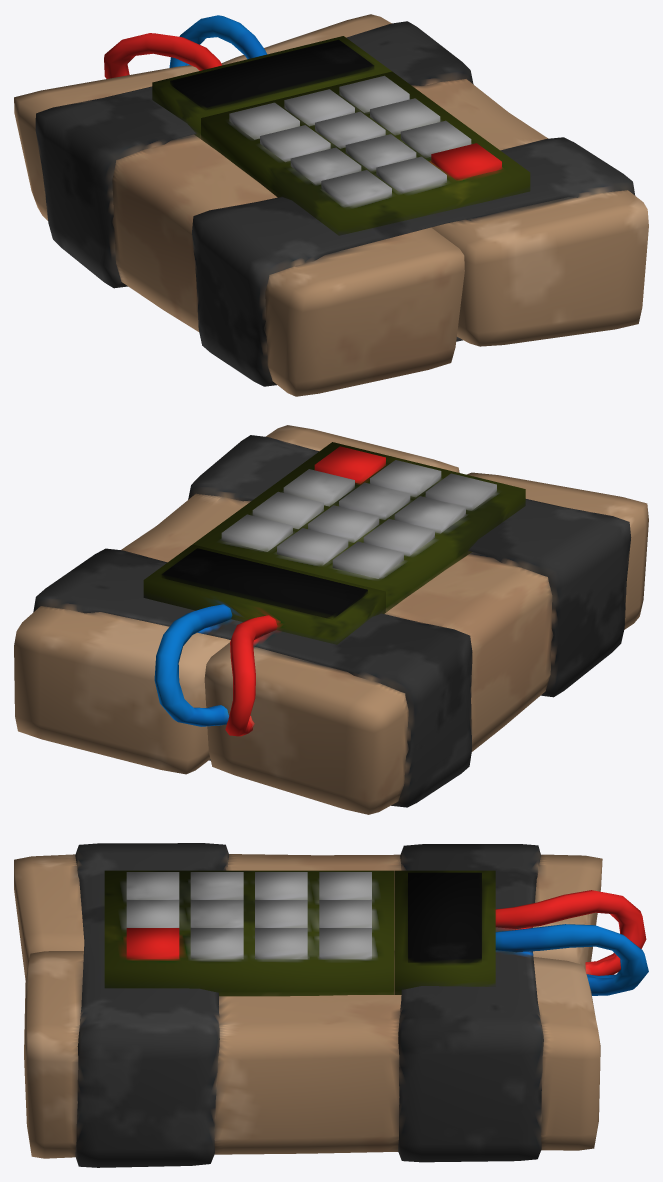
3 renders of one model, top to bottom at view 1: azimuth 30°, elevation 25°; view 2: azimuth 150°, elevation 25°; view 3: azimuth 270°, elevation 25°, orthographic. The views are drawn at different scales.
Visible parts, largest first — view 1: LE_C4; view 2: LE_C4; view 3: LE_C4.
Boxes of the visible parts, x1,y1,x2,y2 form: LE_C4: (14, 14, 648, 396); LE_C4: (14, 425, 648, 814); LE_C4: (14, 843, 648, 1167).
Size of the model in its own units: 2.12 by 0.8528 by 2.89.
Materials: 1 (1 with a texture image).
